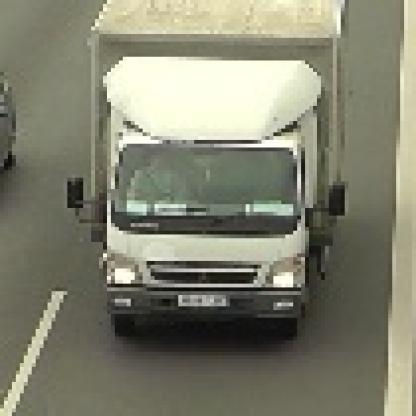truck: (68, 1, 342, 334)
